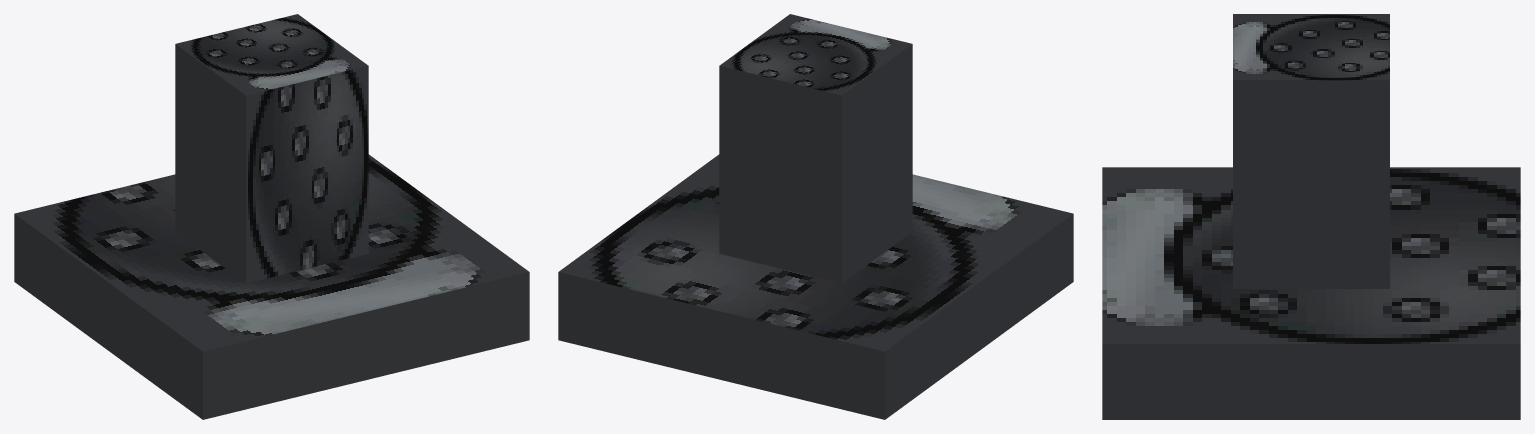
The model's file is Building_LightBall.glb.
The picture shows the model from 3 angles, left to right: view 1: azimuth 30°, elevation 25°; view 2: azimuth 150°, elevation 25°; view 3: azimuth 270°, elevation 25°; orthographic projection. The views are drawn at different scales.
Visible parts, largest first — view 1: LightBall; view 2: LightBall; view 3: LightBall.
Part boxes in pixels (x1,y1,x2,y2): LightBall: (14, 14, 529, 419); LightBall: (558, 14, 1073, 419); LightBall: (1102, 14, 1520, 419).
Bounding box in the file's own units: 0.8 × 0.6 × 0.8.
Materials: 1 (1 with a texture image).
